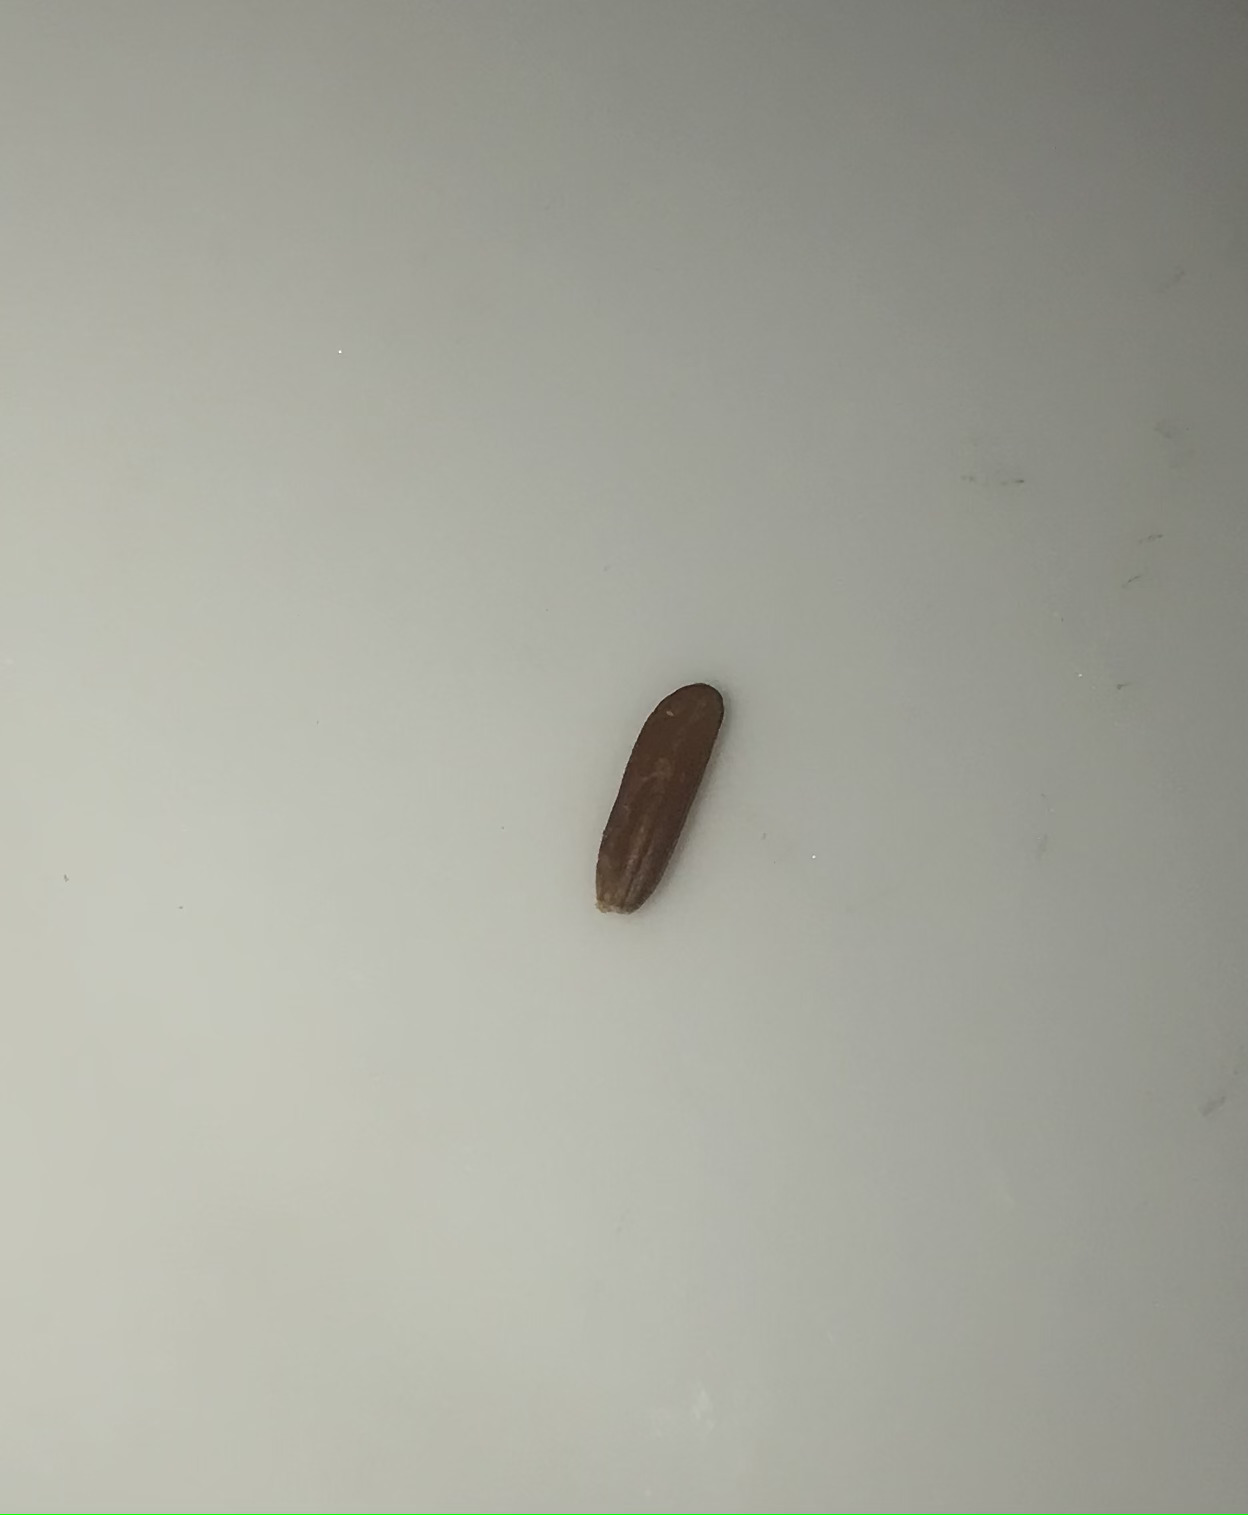Gao Huyet Rong: (588, 668, 728, 919)
